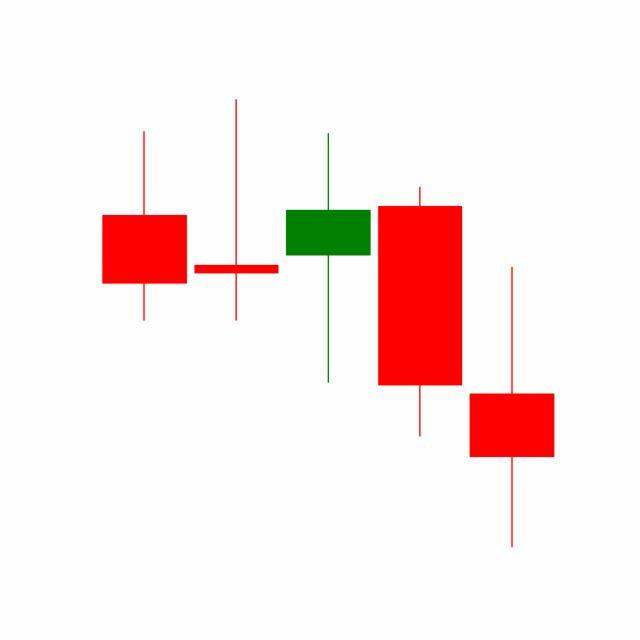Three Outside Up-Down: (280, 129, 555, 549)
